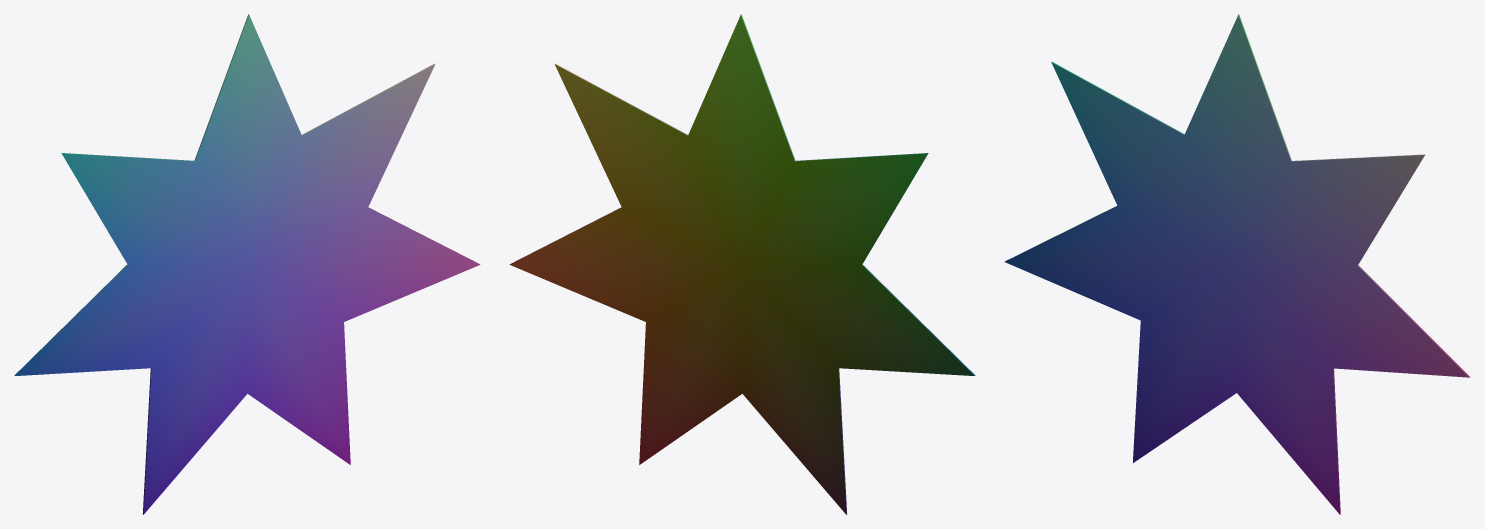
File: zeometry-flat-shapes-flat-star_v8.glb
3 views of the same model, side by side, from view 1: azimuth 30°, elevation 25°; view 2: azimuth 150°, elevation 25°; view 3: azimuth 330°, elevation 25° (orthographic).
Visible parts, largest first — view 1: Flat Star_v8; view 2: Flat Star_v8; view 3: Flat Star_v8.
Part boxes in pixels (x1,y1,x2,y2): Flat Star_v8: (14,14,480,514); Flat Star_v8: (509,14,975,514); Flat Star_v8: (1004,14,1470,514).
Size of the model in its own units: 0.5 by 0.4879 by 0.00137.
